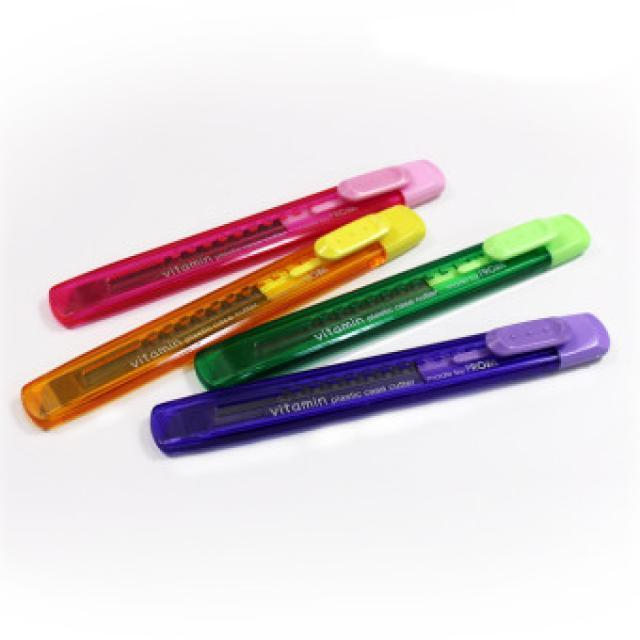cutter: (12, 204, 426, 436), (33, 142, 460, 322), (140, 309, 606, 473), (184, 205, 615, 382)
